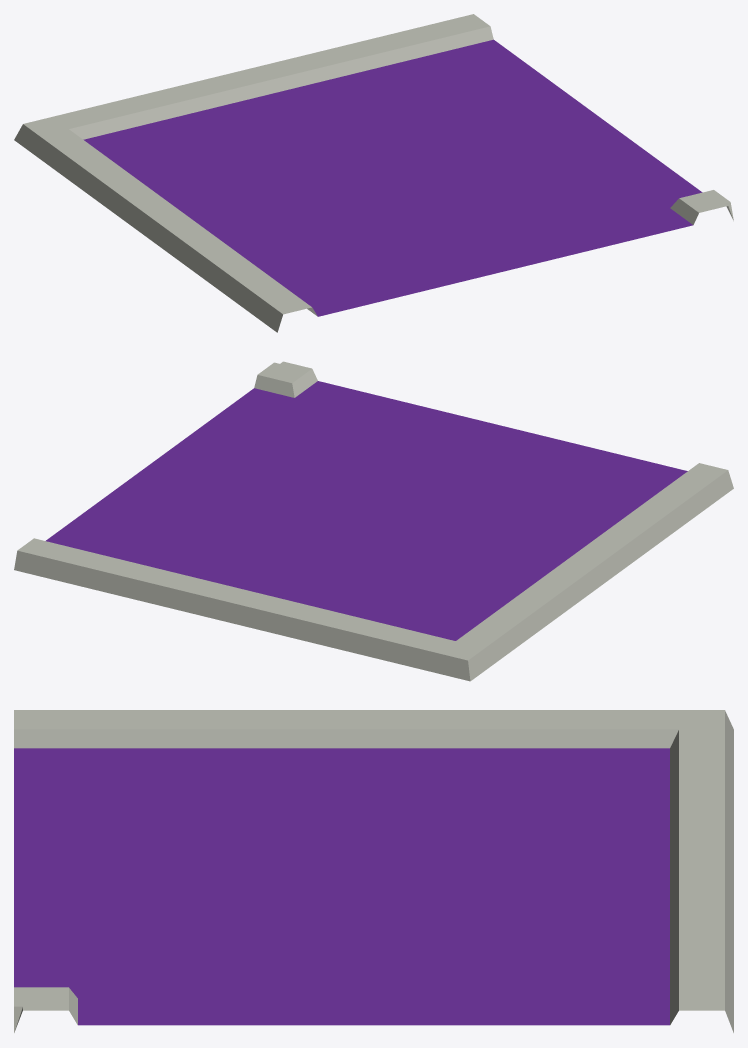
File: ParkRoad_3_A.fbx
3 views of the same model, one above another, from view 1: azimuth 30°, elevation 25°; view 2: azimuth 150°, elevation 25°; view 3: azimuth 270°, elevation 25° (orthographic). The views are drawn at different scales.
Parts seen in each view (by area): view 1: ParkRoad_3_A; view 2: ParkRoad_3_A; view 3: ParkRoad_3_A.
Part boxes in pixels (bbox=[...]): ParkRoad_3_A: bbox=[14, 14, 733, 332]; ParkRoad_3_A: bbox=[14, 361, 733, 681]; ParkRoad_3_A: bbox=[14, 710, 733, 1032].
Bounding box in the file's own units: 200 × 7.16 × 200.
